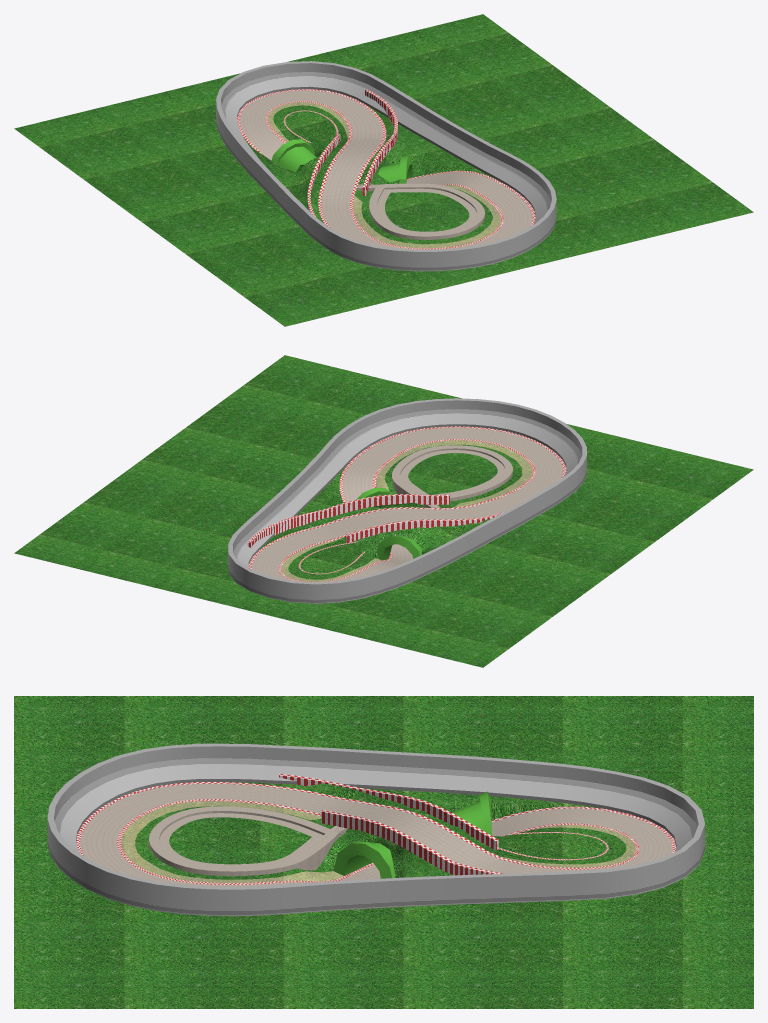
Rendered from course_01.fbx.
The picture shows the model from 3 angles, top to bottom: view 1: azimuth 30°, elevation 25°; view 2: azimuth 150°, elevation 25°; view 3: azimuth 270°, elevation 25°; orthographic projection. The views are drawn at different scales.
Visible parts, largest first — view 1: pPlane2, extrudedSurface10, extrudedSurface3, extrudedSurface9, extrudedSurface8; view 2: pPlane2, extrudedSurface10, extrudedSurface3, extrudedSurface9, extrudedSurface7, extrudedSurface14, extrudedSurface8, extrudedSurface12; view 3: pPlane2, extrudedSurface10, extrudedSurface3, extrudedSurface9, extrudedSurface8, extrudedSurface7, extrudedSurface14.
Part boxes in pixels (x1,y1,x2,y2): pPlane2: (14, 14, 753, 326); extrudedSurface10: (216, 61, 556, 271); extrudedSurface3: (237, 89, 535, 249); extrudedSurface9: (357, 183, 485, 239); extrudedSurface8: (271, 139, 412, 183); pPlane2: (14, 355, 753, 667); extrudedSurface10: (228, 398, 586, 603); extrudedSurface3: (249, 426, 566, 582); extrudedSurface9: (392, 445, 512, 508); extrudedSurface7: (323, 494, 449, 518); extrudedSurface14: (345, 513, 501, 543); extrudedSurface8: (356, 488, 422, 560); extrudedSurface12: (247, 510, 323, 547); pPlane2: (14, 696, 753, 1008); extrudedSurface10: (47, 743, 705, 916); extrudedSurface3: (76, 782, 676, 886); extrudedSurface9: (148, 806, 347, 876); extrudedSurface8: (333, 791, 492, 878); extrudedSurface7: (321, 810, 452, 873); extrudedSurface14: (279, 774, 498, 850).
Size of the model in its own units: 400 by 34.47 by 400.
